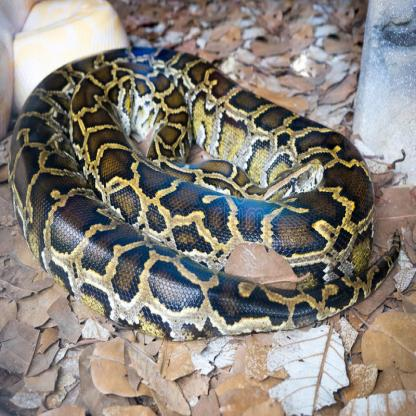snakes: (16, 43, 395, 345)
